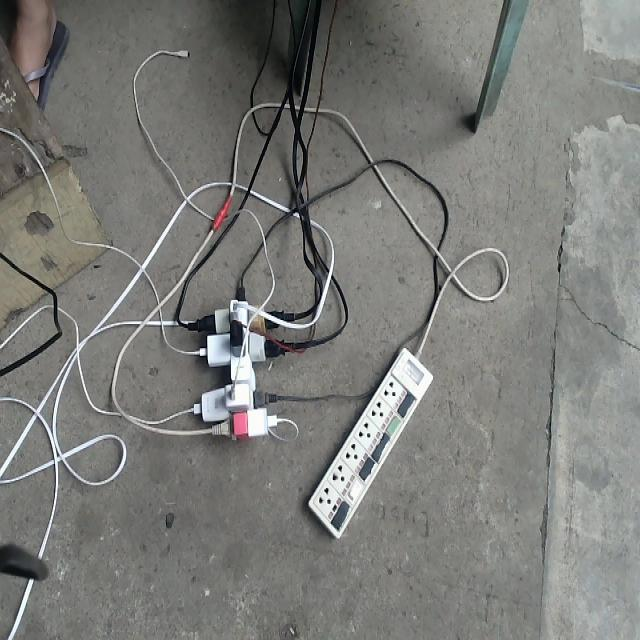-: (185, 282, 294, 438)
